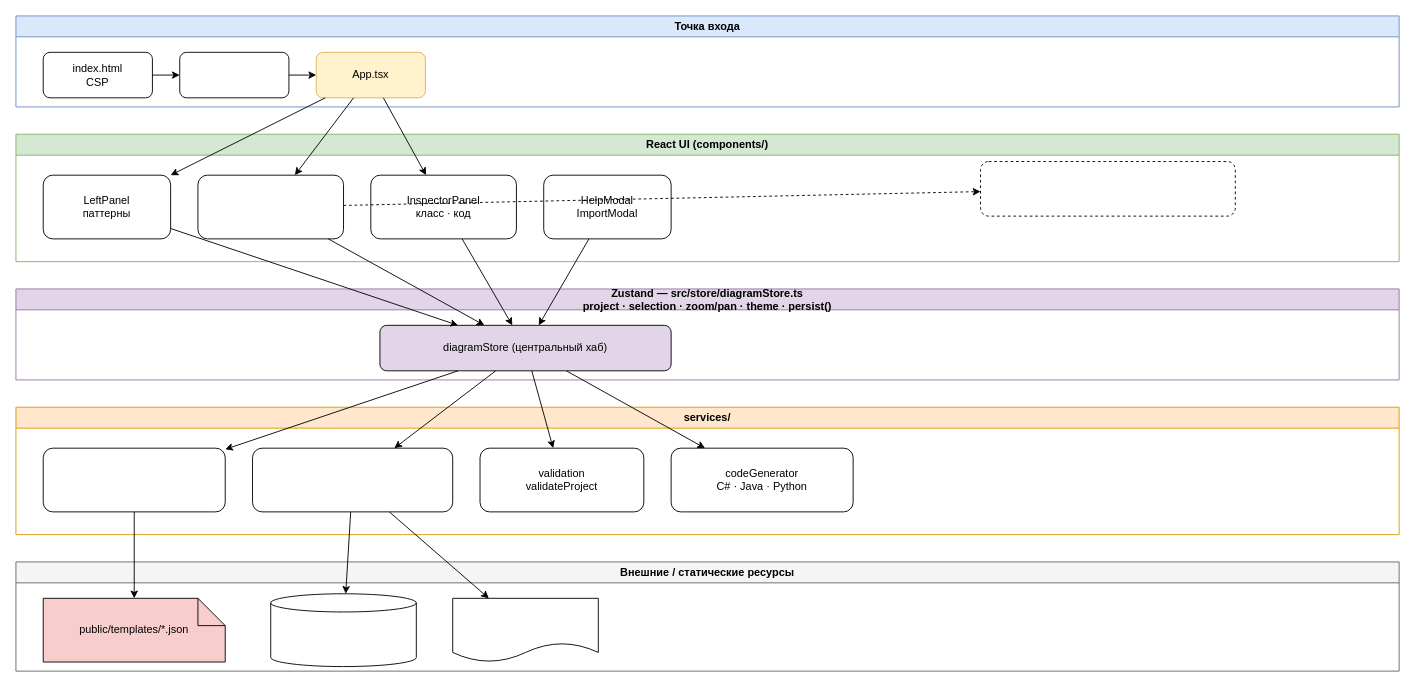
Image size: 1415x687. Some labels were removed from this diagram. The centre of each missing label's shape, as x and y in pixels:
".archistyler.json" goes at [525,629].
"DiagramCanvas канвас" goes at [270,206].
"localStorage" goes at [343,630].
"main.tsx" goes at [234,74].
"storage localStorage · import/export" goes at [352,479].
"templateService loadPatterns · applyPattern" goes at [133,479].
"utils/ diagramGeometry · hitTest · snap · viewport" goes at [1107,188].
